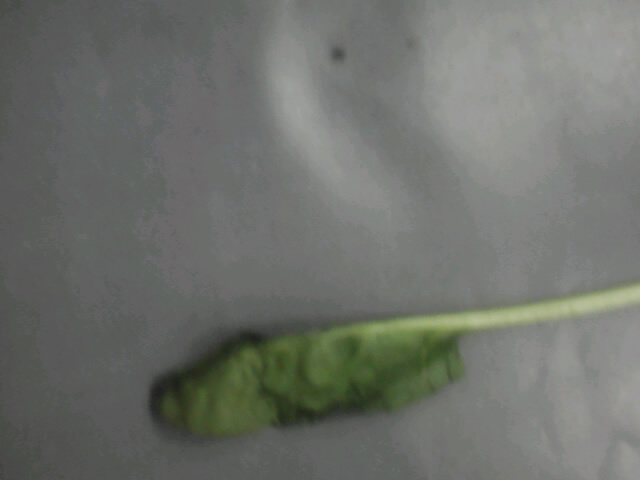yellow: (109, 256, 578, 446)
